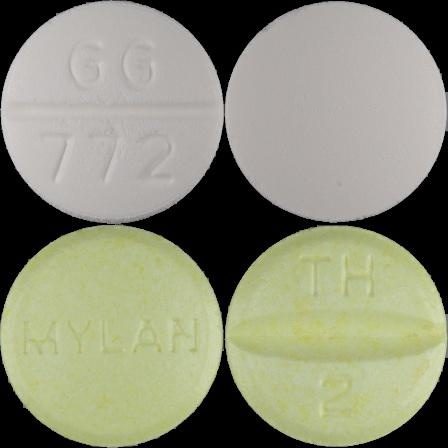67544-097: (0, 0, 224, 224)
